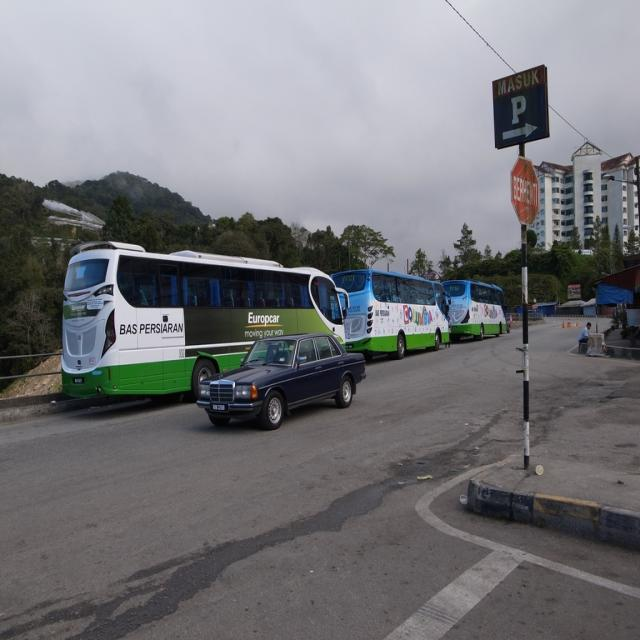car: (190, 311, 366, 431)
